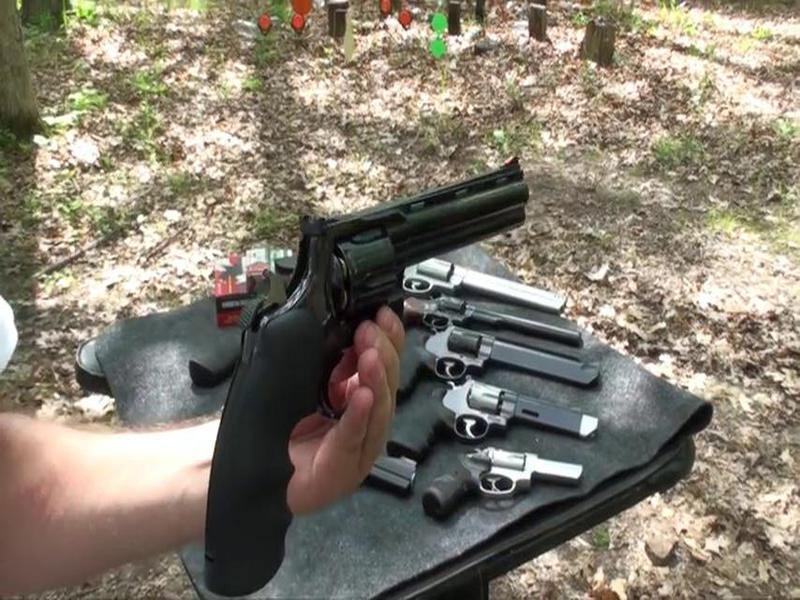Revolver: (197, 151, 543, 468)
